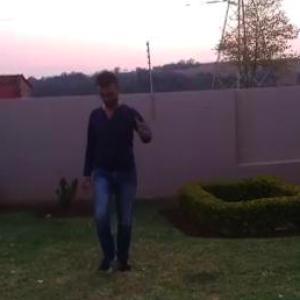takeoff-hand: (122, 113, 158, 145)
